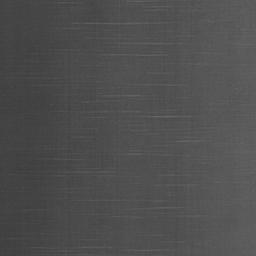Waist folding: (71, 0, 199, 57), (62, 83, 192, 120), (147, 183, 236, 210), (60, 245, 168, 256), (87, 198, 140, 220), (123, 152, 170, 157), (66, 169, 109, 174), (176, 139, 203, 144), (58, 0, 76, 7), (0, 236, 21, 241)
